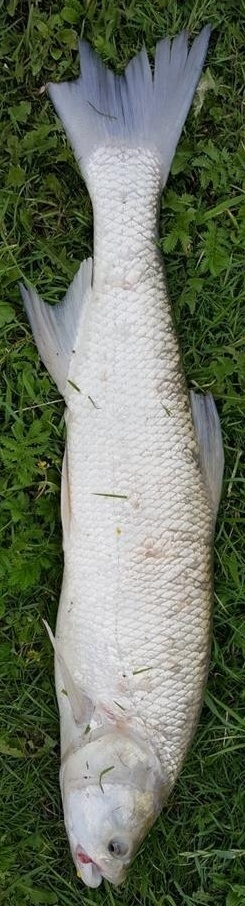Aspius aspius: (20, 20, 225, 886)
